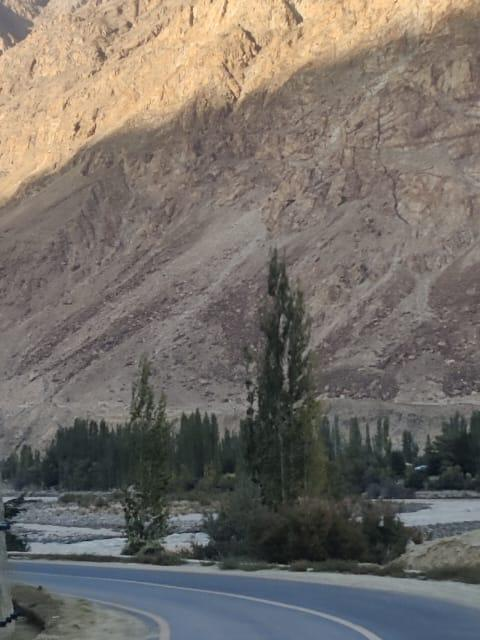left_turn: (11, 465, 428, 640)
